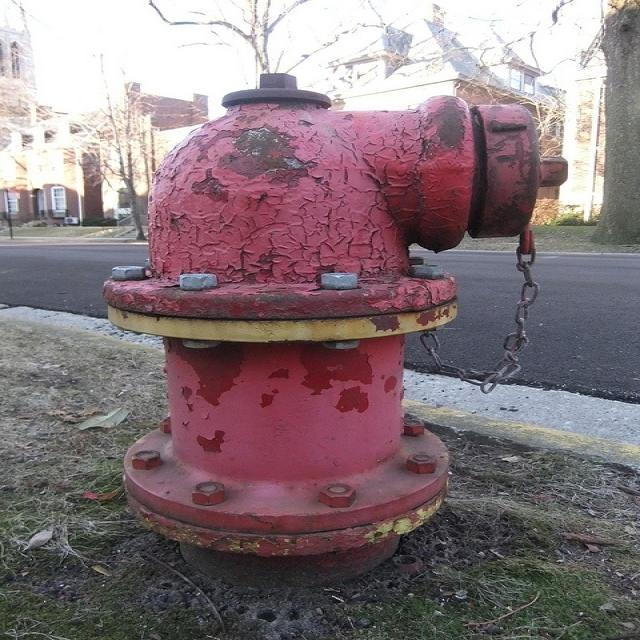fire_hydrant: (128, 51, 474, 563)
